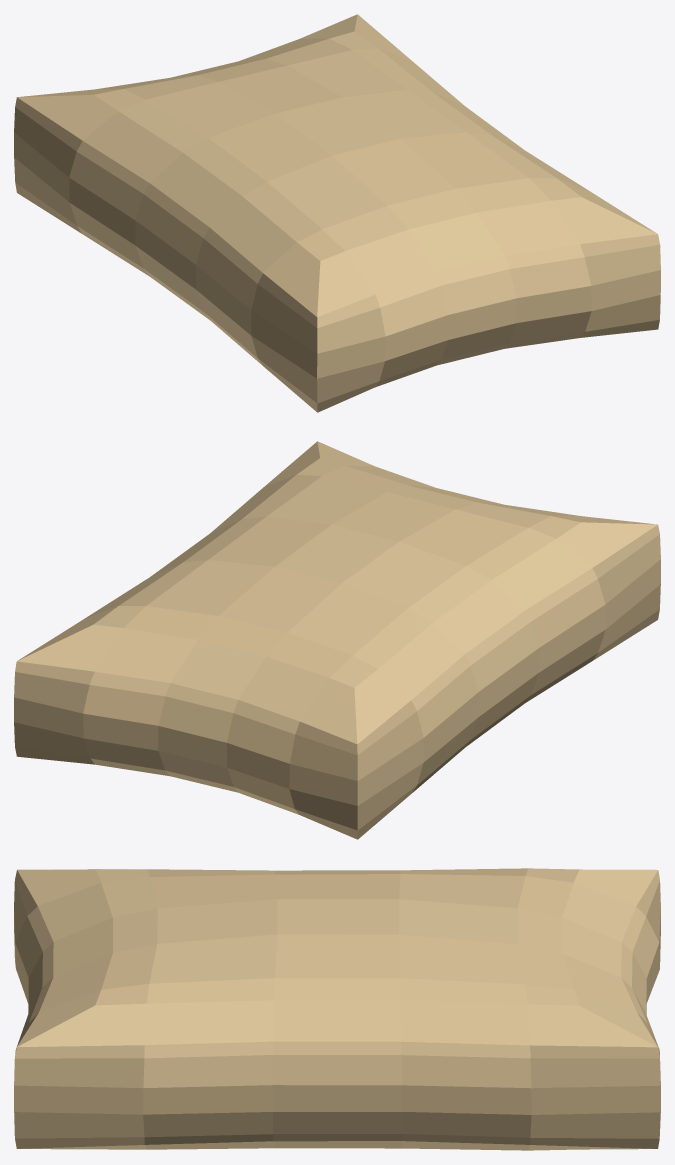
File: SacoFechado.fbx
3 renders of one model, top to bottom at view 1: azimuth 30°, elevation 25°; view 2: azimuth 150°, elevation 25°; view 3: azimuth 270°, elevation 25°, orthographic. The views are drawn at different scales.
Visible parts, largest first — view 1: pCubeShape262; view 2: pCubeShape262; view 3: pCubeShape262.
Part boxes in pixels (<box>): pCubeShape262: <box>14,14,660,412</box>; pCubeShape262: <box>14,441,660,839</box>; pCubeShape262: <box>14,868,660,1150</box>.
Bounding box in the file's own units: 0.6432 × 0.3014 × 0.9524.
